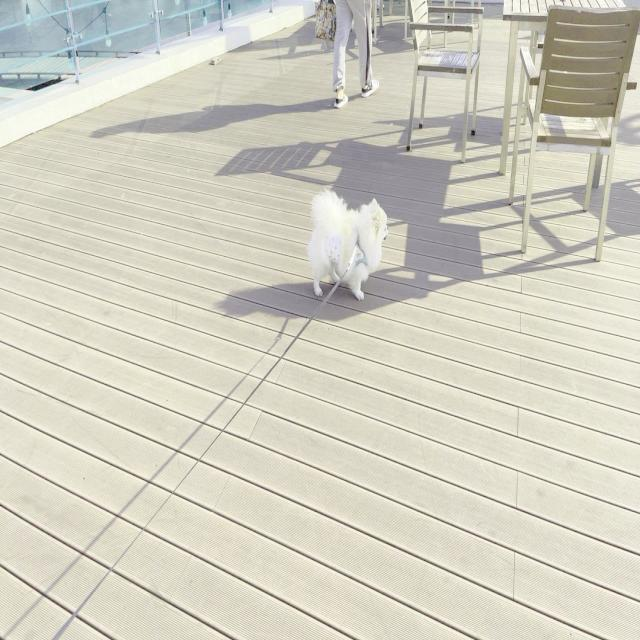Dog: (307, 188, 390, 304)
